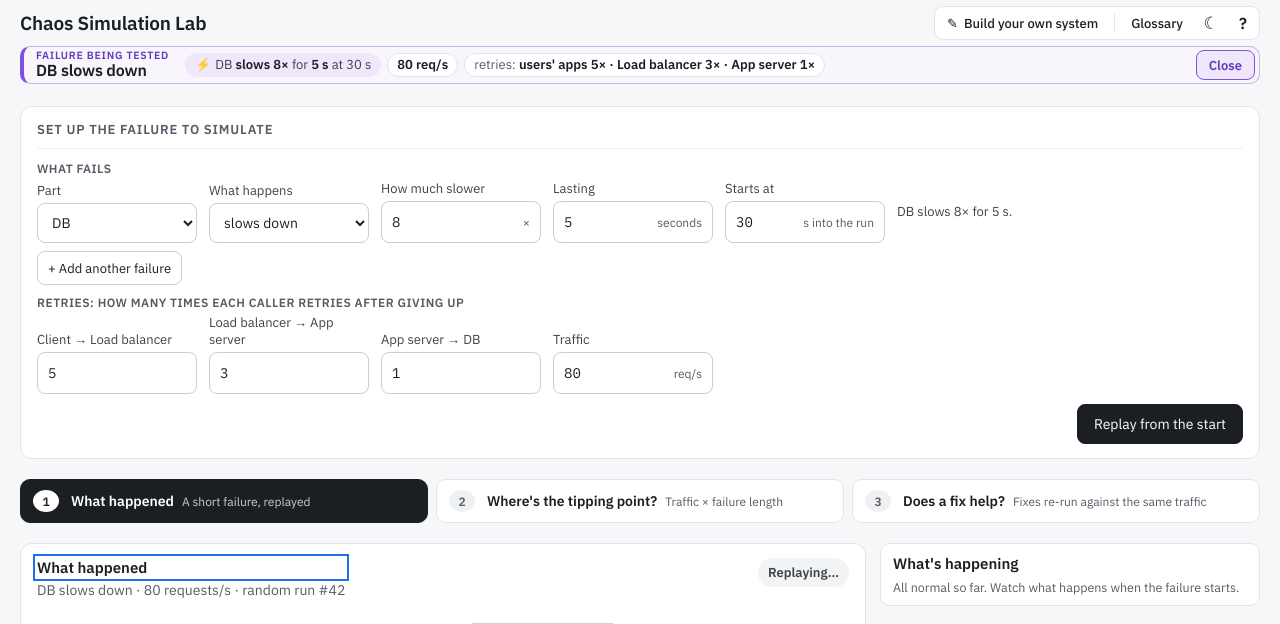
Test case: App › edits the failure, then re-runs only when asked
Earlier steps of the test are not shown.
Later steps or results of the test are not shown.
Replace the text in the number field labelled "App server → DB" with "0" at (461, 373), box [392,354,530,392]
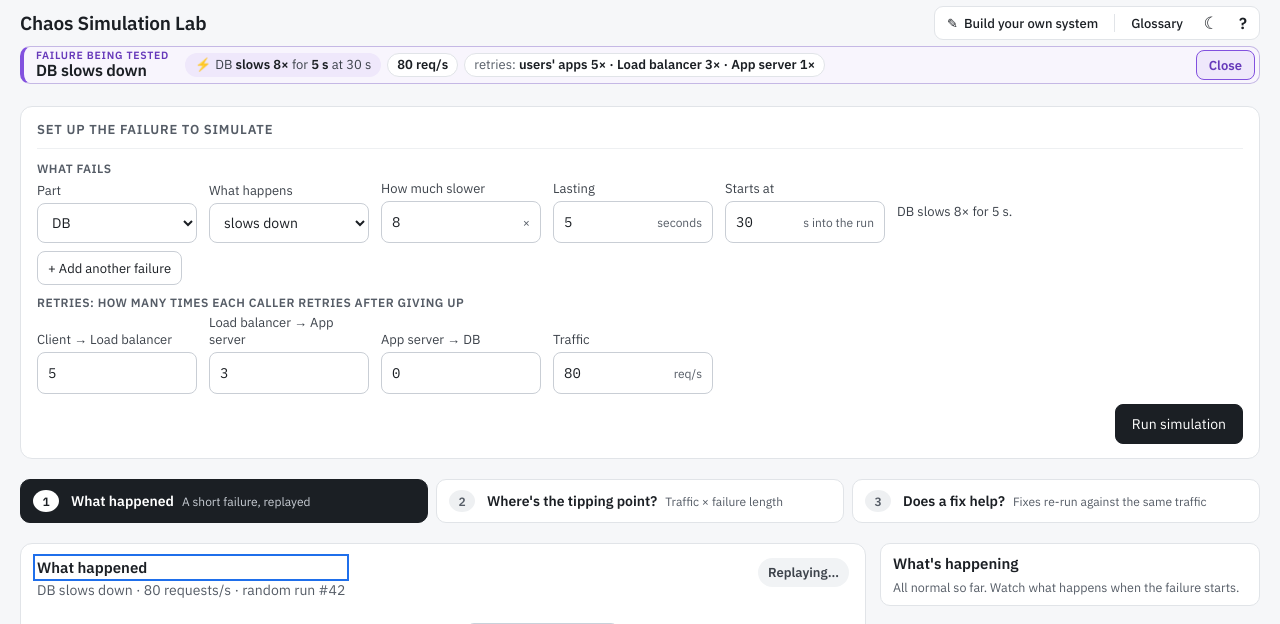
Replace the text in the number field labelled "Client → Load balancer" with "2" at (117, 373), box [48,354,186,392]
Replace the text in the number field labelled "How much slower ×" with "4" at (454, 222), box [392,203,517,241]
Replace the text in the number field labelled "Lasting seconds" with "10" at (608, 222), box [564,203,651,241]
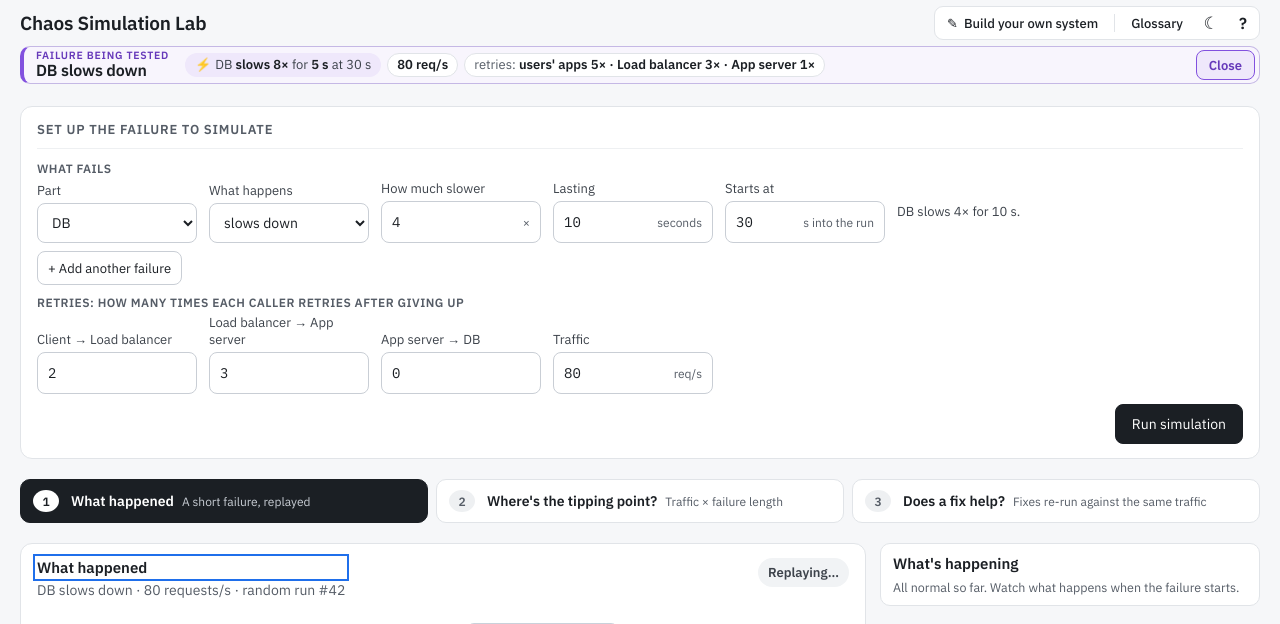
Replace the text in the number field labelled "Starts at s into the run" with "20" at (767, 222), box [736,203,797,241]
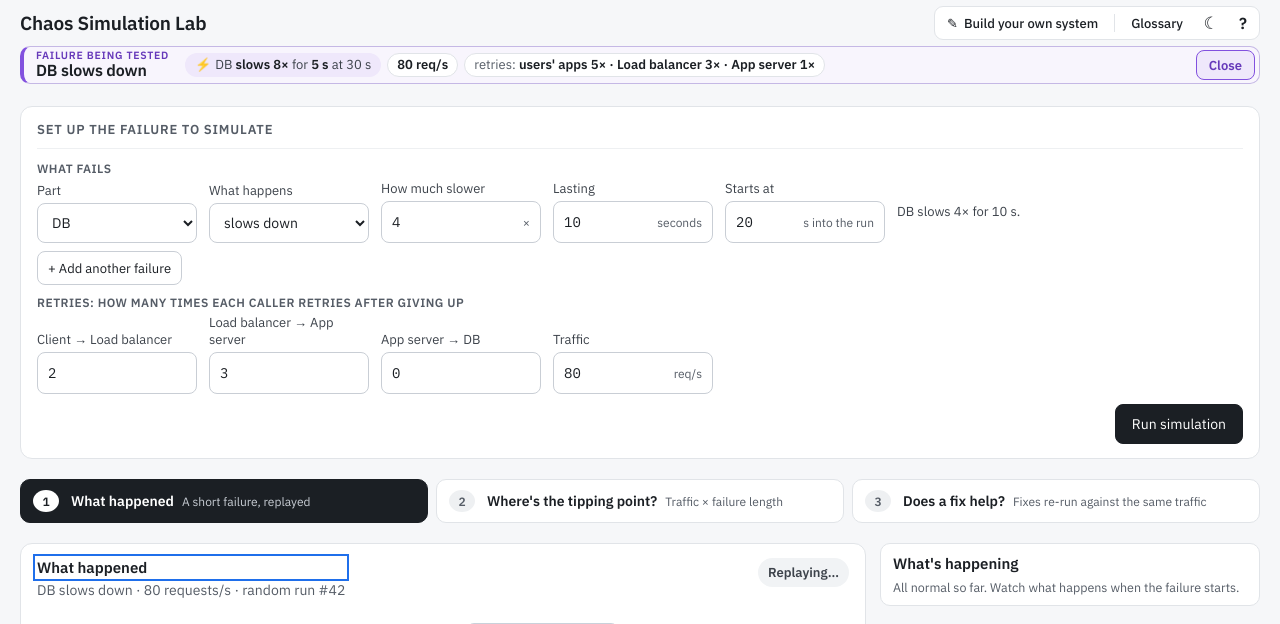
Check: the text "DB slows 4× for 10 s." is shown, box [897,203,1020,220]
Click the button "+ Add another failure" at (110, 268), box [37,251,182,285]
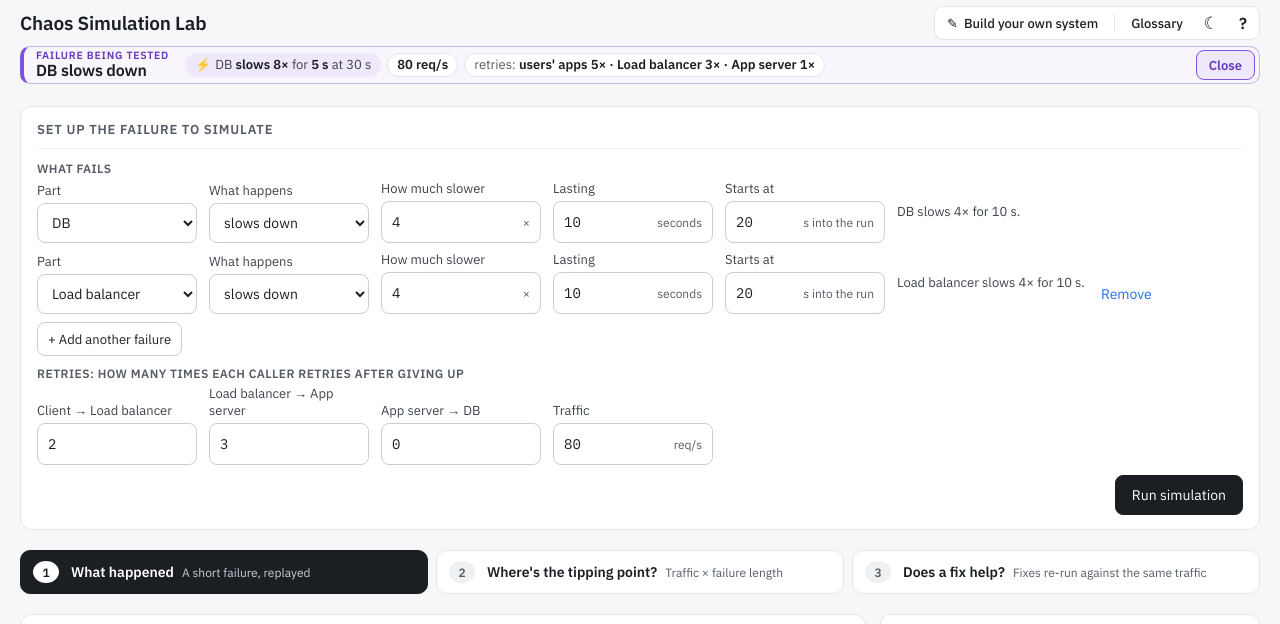
Check: the 2nd dropdown labelled "Part" shows "Load balancer"
Select "Cache" in the 2nd dropdown labelled "Part" at (117, 294), box [37,274,197,314]
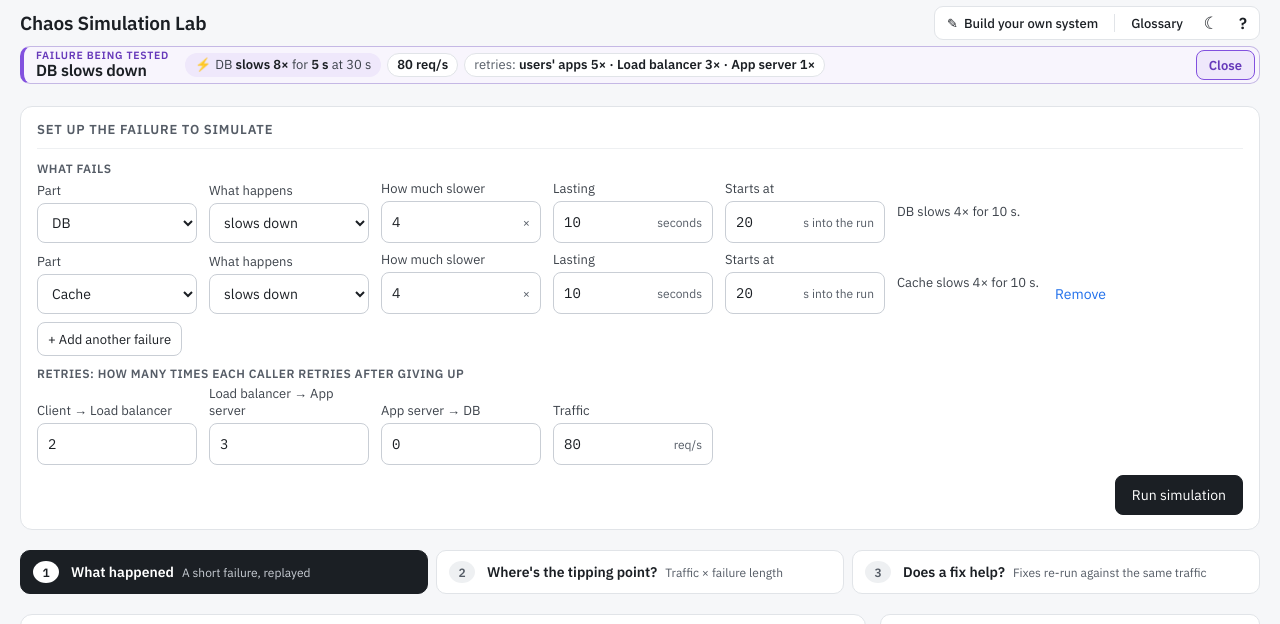
Select "goes down, restarts empty" in the 2nd dropdown labelled "What happens" at (289, 294), box [209,274,369,314]
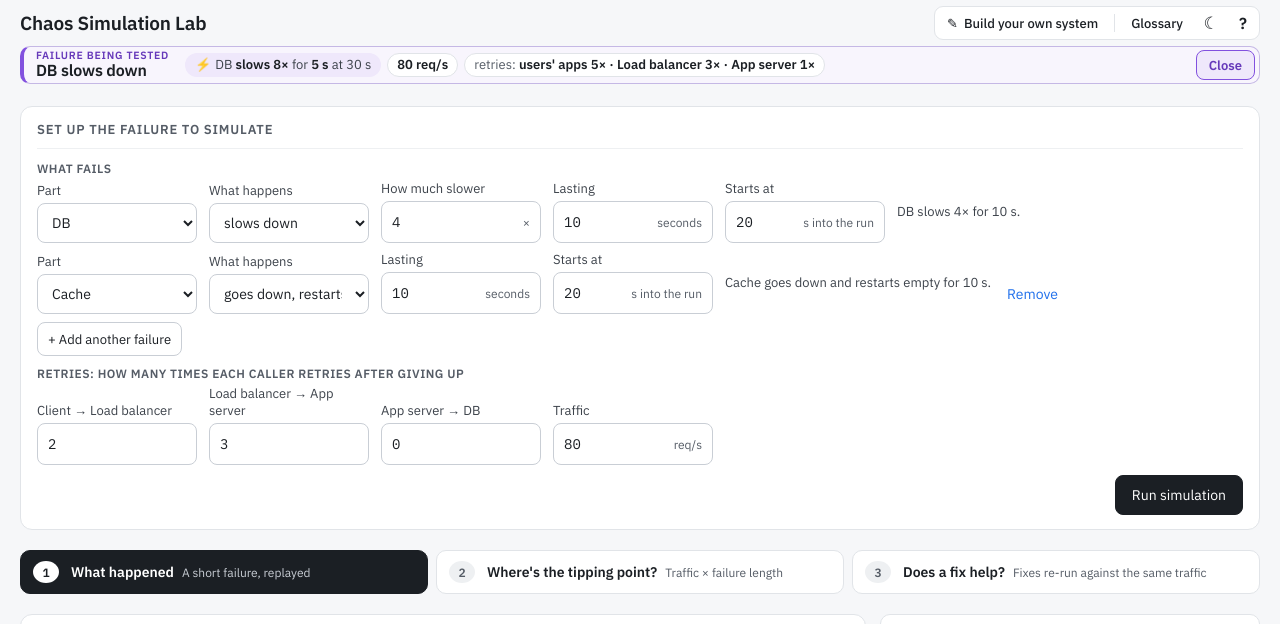
Check: the text "Cache goes down and restarts empty for 10 s." is shown, box [725,274,991,291]
